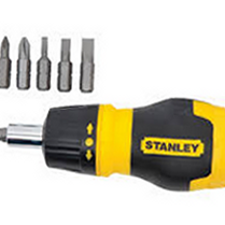Screwdriver: (1, 92, 225, 201)
